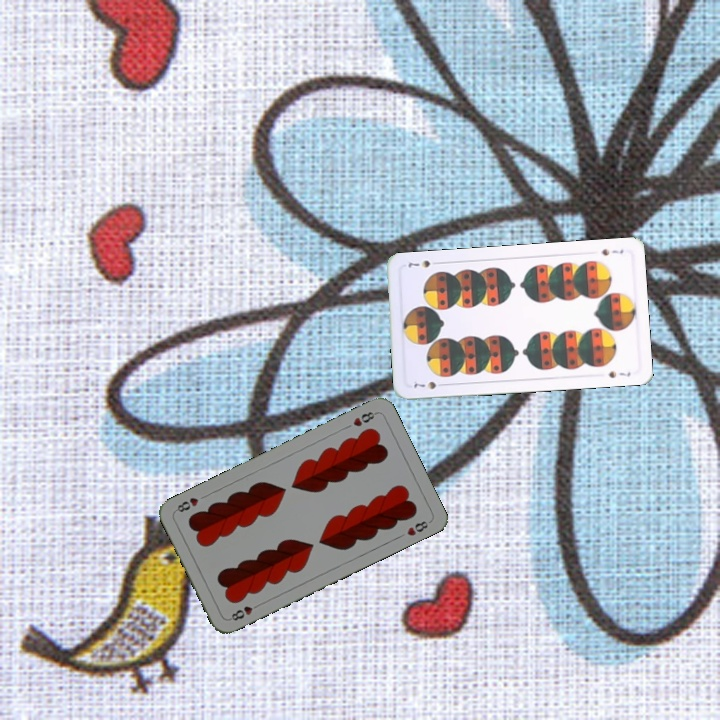H8: (225, 599, 263, 623), (349, 407, 379, 429)
S7: (410, 377, 448, 392), (597, 245, 626, 258)
